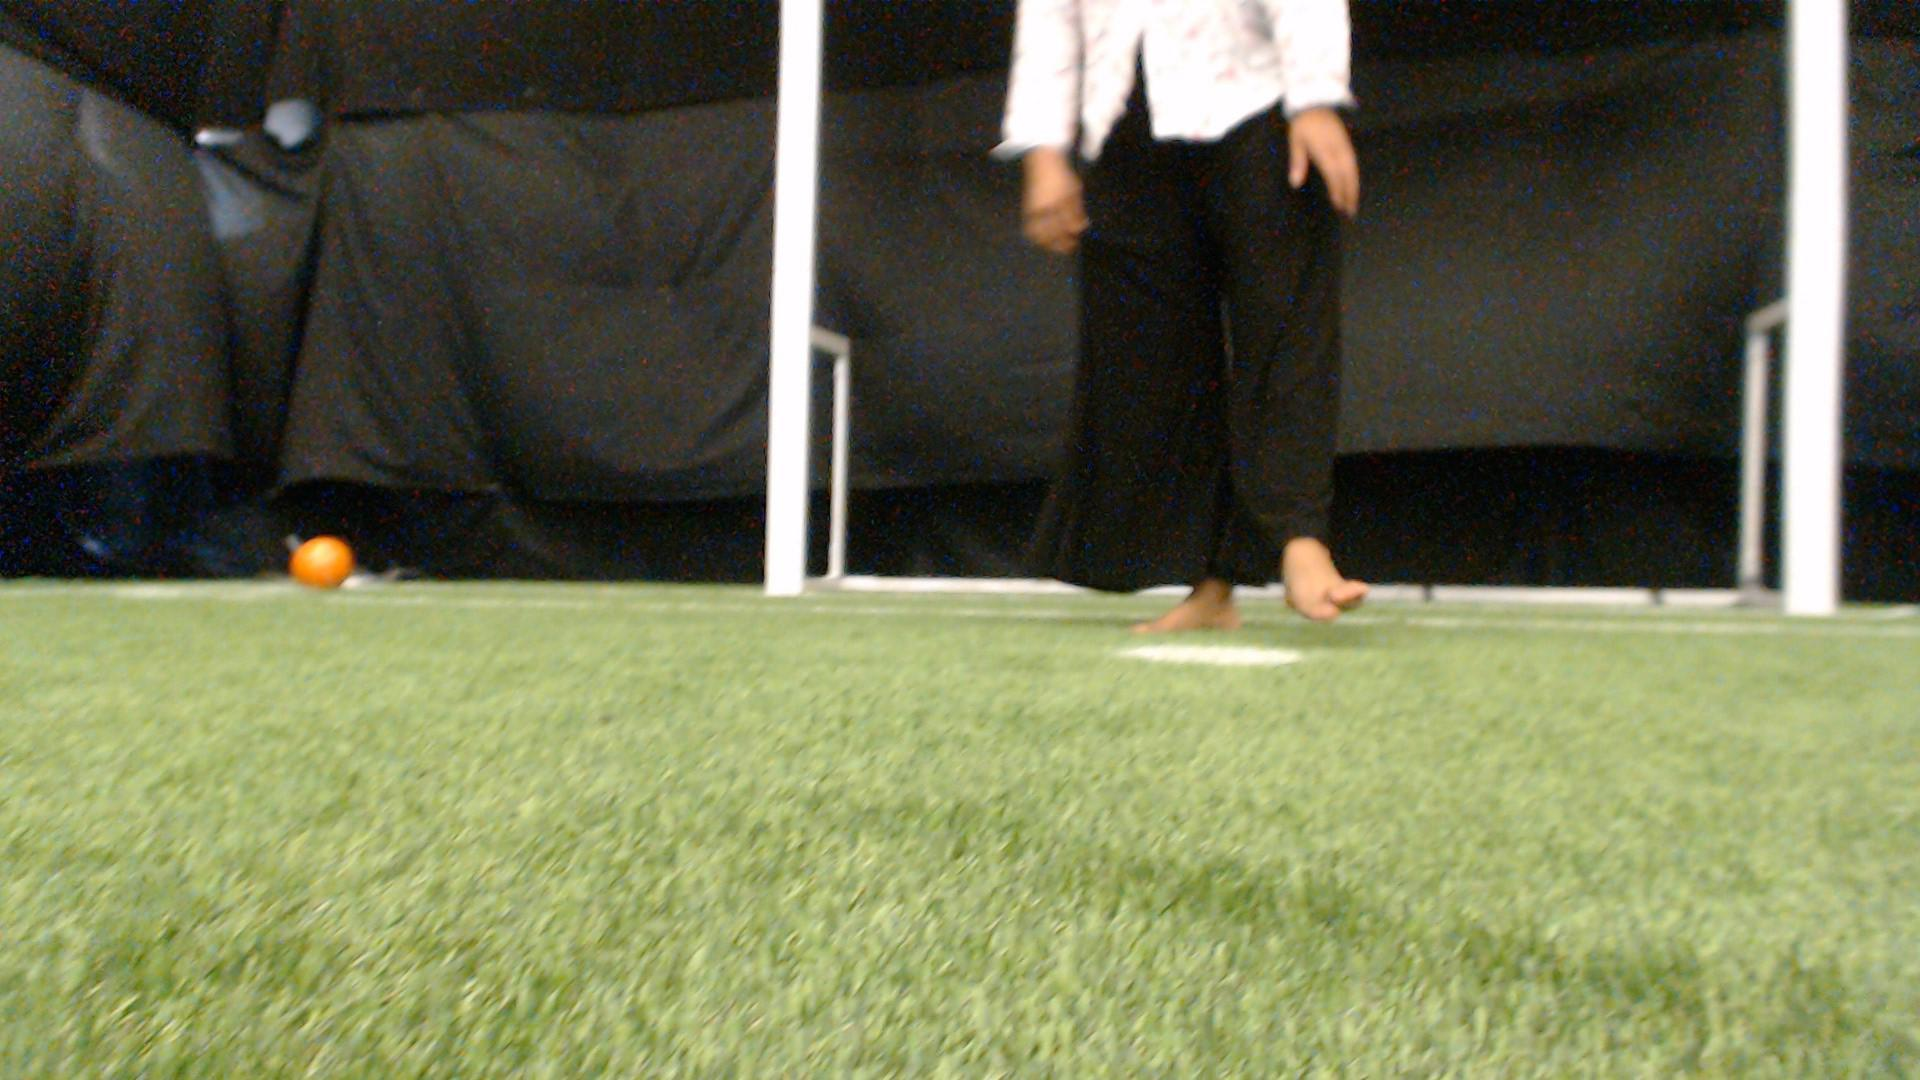bola: (278, 522, 378, 607)
